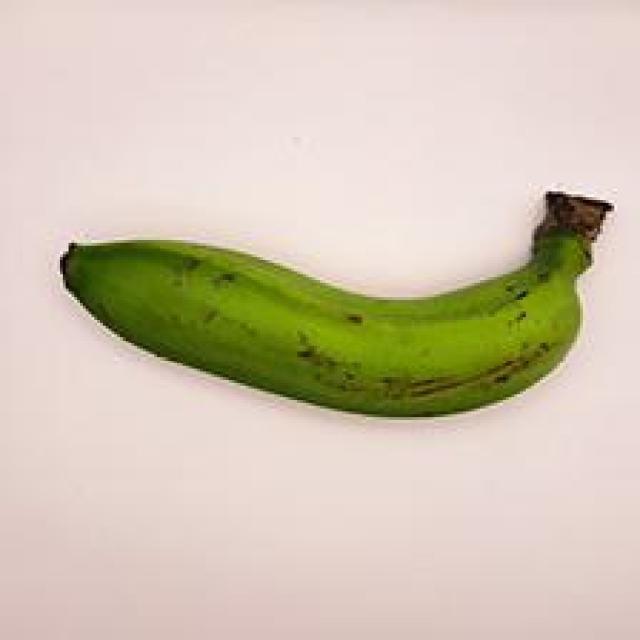Raw: (48, 156, 628, 424)
